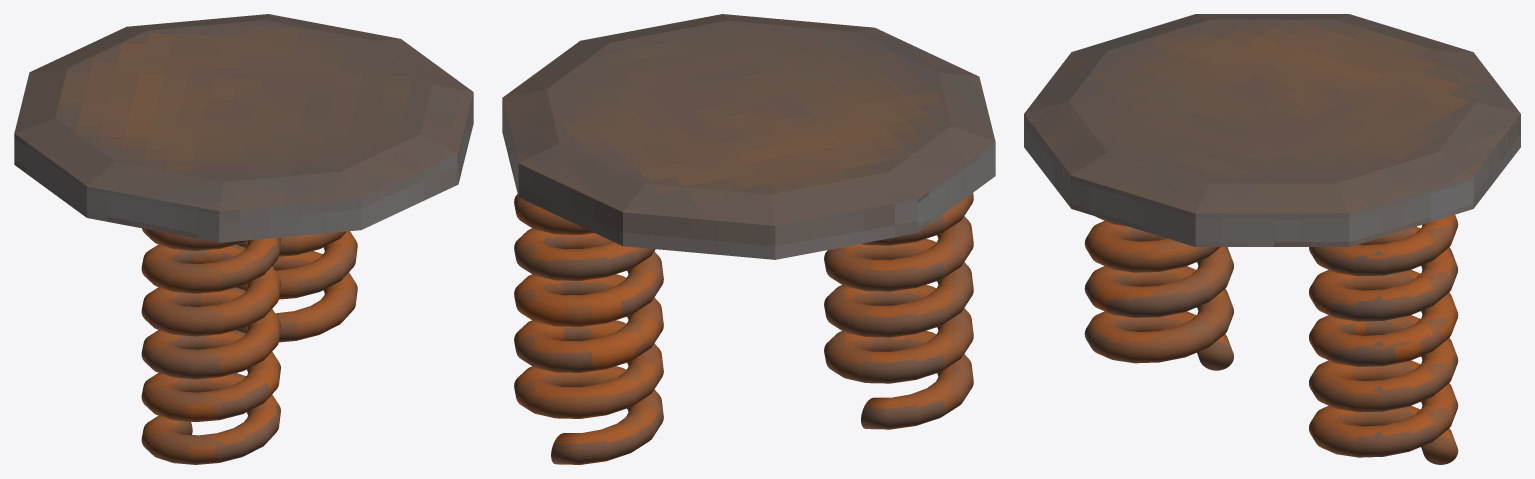
The model's file is zıplama_yay.fbx.
3 views of the same model, side by side, from view 1: azimuth 30°, elevation 25°; view 2: azimuth 150°, elevation 25°; view 3: azimuth 270°, elevation 25° (orthographic). The views are drawn at different scales.
Parts seen in each view (by area): view 1: Circle.001; view 2: Circle.001; view 3: Circle.001.
Part boxes in pixels (<box>): Circle.001: <box>14,14,473,464</box>; Circle.001: <box>502,14,995,464</box>; Circle.001: <box>1024,14,1520,464</box>.
Size of the model in its own units: 2.53 by 1.85 by 2.66.
Materials: 1 (1 with a texture image).
